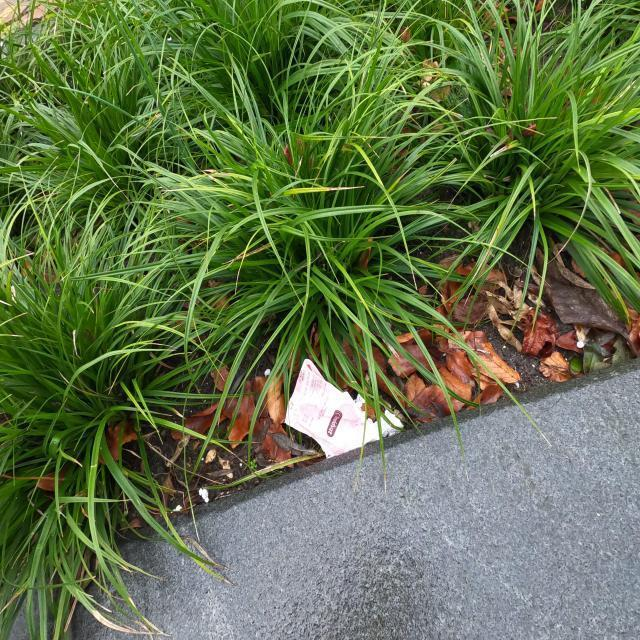Paper: (284, 357, 404, 460)
